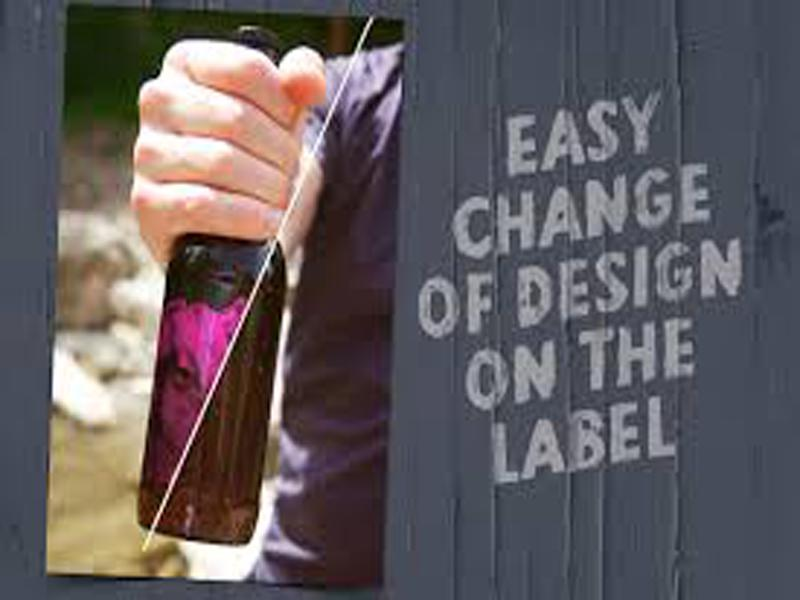Beer: (143, 30, 288, 544)
